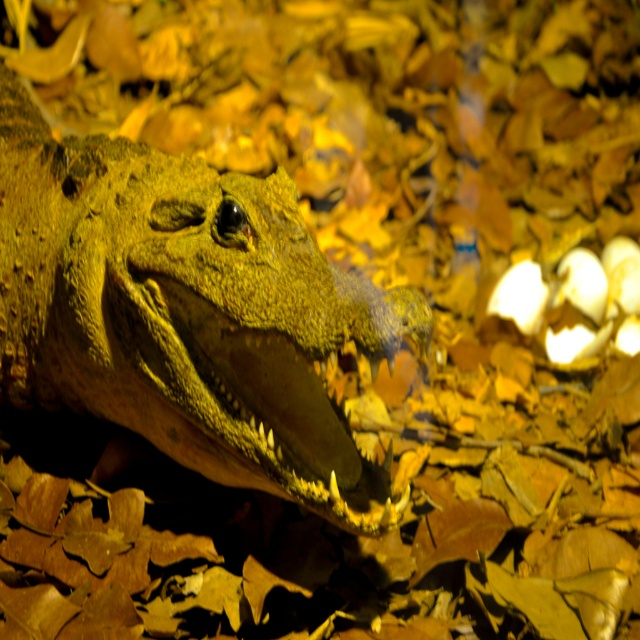Crocodile: (0, 53, 433, 537)
